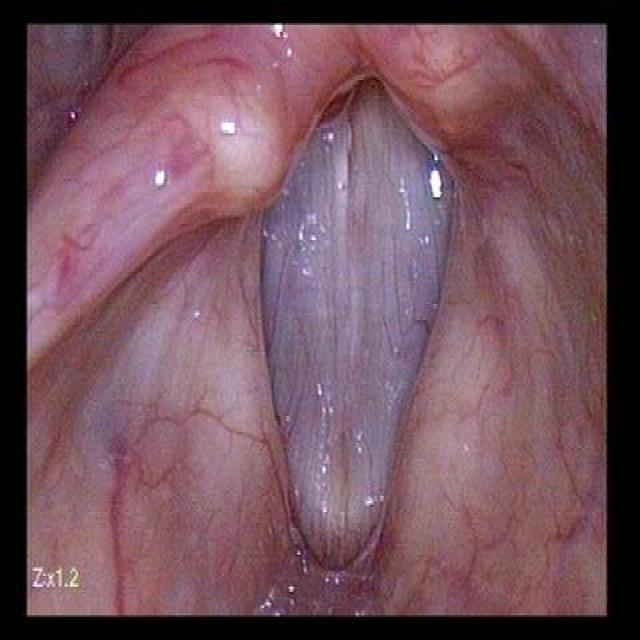arytenoid cartilagerotation: (97, 28, 528, 248)
larynxrotation: (254, 63, 455, 575)
